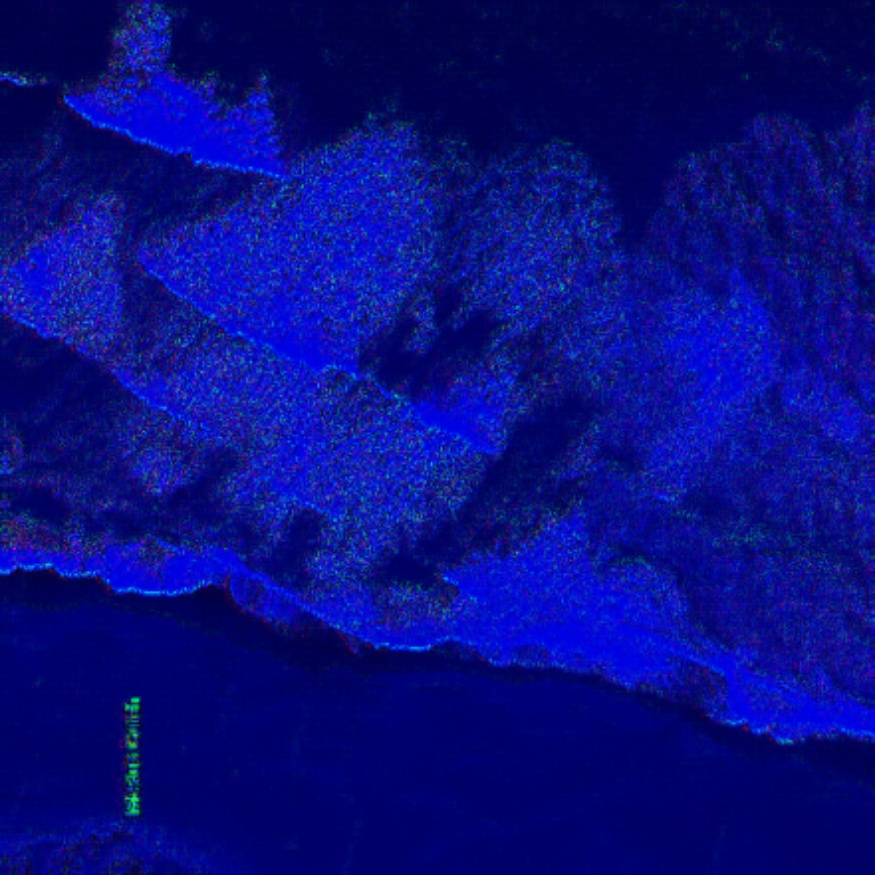rip_current: (380, 238, 764, 641)
